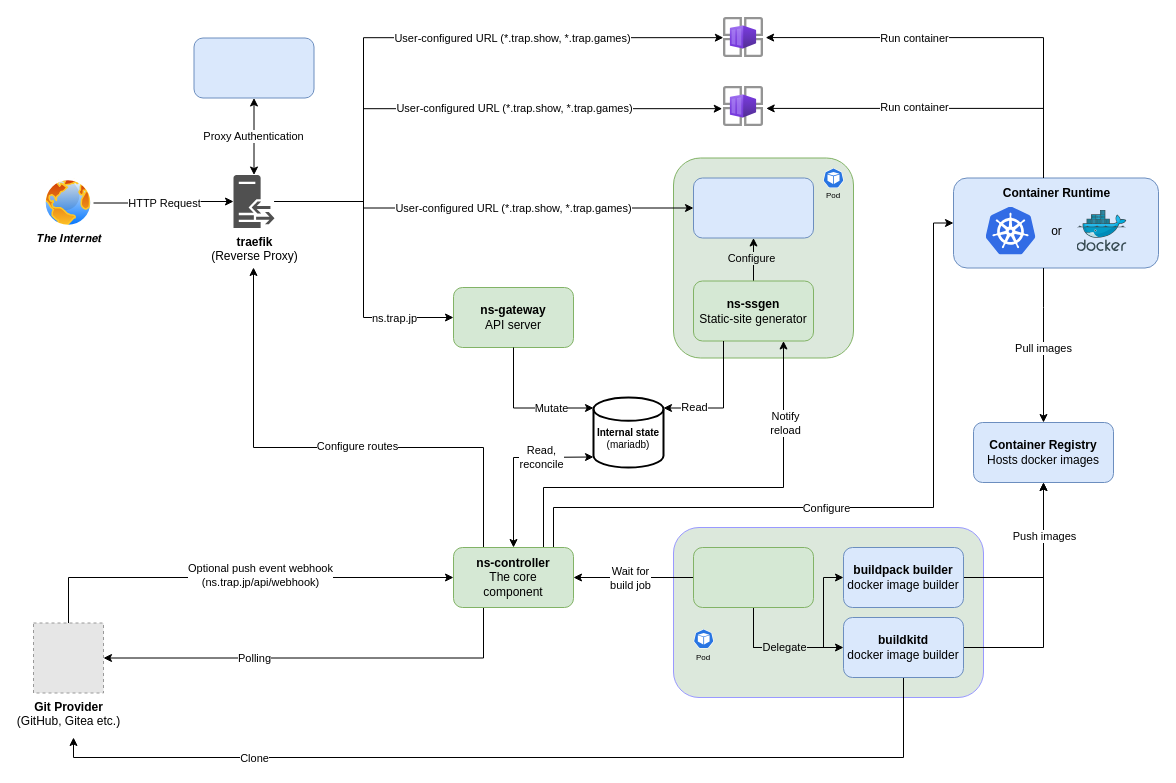
This 1176x783 diagram has some shape labels left out. Grey dashed boxes stand in for pictures. The shapes that lost their labels are listed below. From the top down, each one's centre as x and y in pixels, then its label:
At point (743, 37): "User App 1 (Runtime)".
At point (253, 67): "Proxy Auth via OAuth2 / OIDC (traefik-forward-auth)".
At point (743, 106): "User App 2 (Runtime)".
At point (753, 207): "Static File Server (Caddy)".
At point (753, 577): "ns-builder App image builder".
